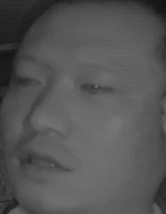eye: (79, 75, 112, 99), (13, 69, 43, 90)
mouth: (12, 141, 72, 182)
